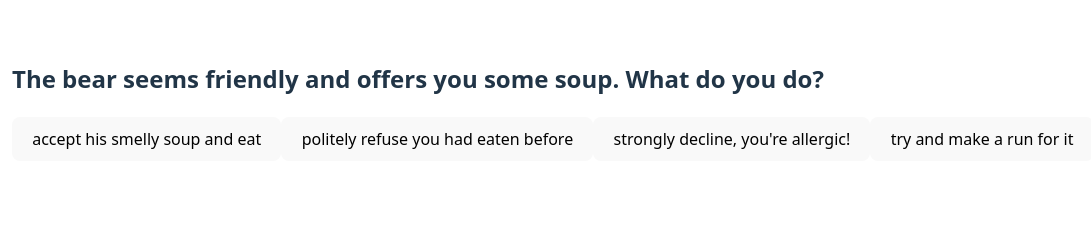
Test: Level2 Component › proceed button appears after correct answer
Step 1. Click the button "politely refuse you had eaten before" → (437, 139), box x1=282 y1=117 x2=593 y2=160
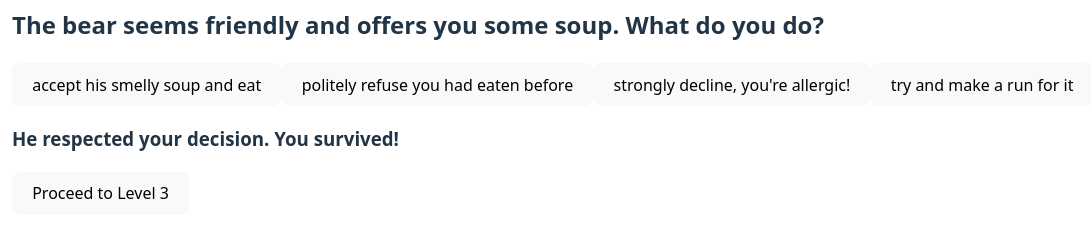
Check: the button "Proceed to Level 3" is shown, box x1=12 y1=172 x2=189 y2=215
